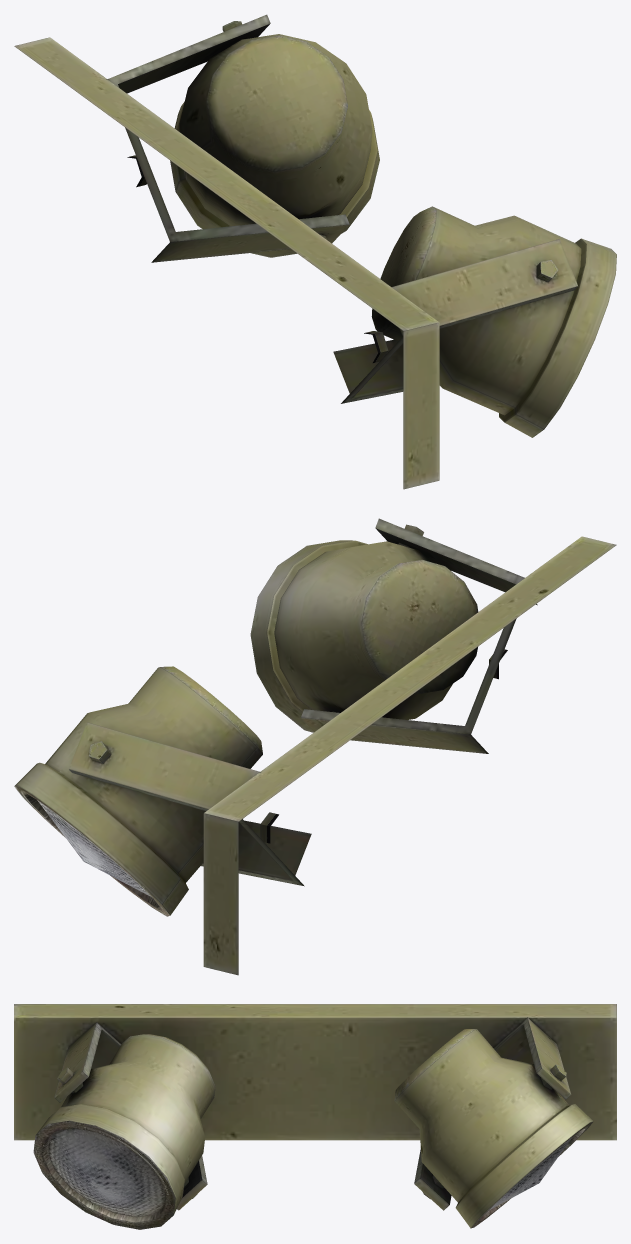
File: floodlight02.glb
The picture shows the model from 3 angles, top to bottom: view 1: azimuth 30°, elevation 25°; view 2: azimuth 150°, elevation 25°; view 3: azimuth 270°, elevation 25°; orthographic projection. The views are drawn at different scales.
Visible parts, largest first — view 1: 0_Floodlight03; view 2: 0_Floodlight03; view 3: 0_Floodlight03.
Part boxes in pixels (x1,y1,x2,y2): 0_Floodlight03: [14, 14, 616, 489]; 0_Floodlight03: [14, 518, 616, 975]; 0_Floodlight03: [14, 1004, 616, 1229].
Bounding box in the file's own units: 0.265 × 0.2042 × 0.6143.
Materials: 1 (1 with a texture image).
